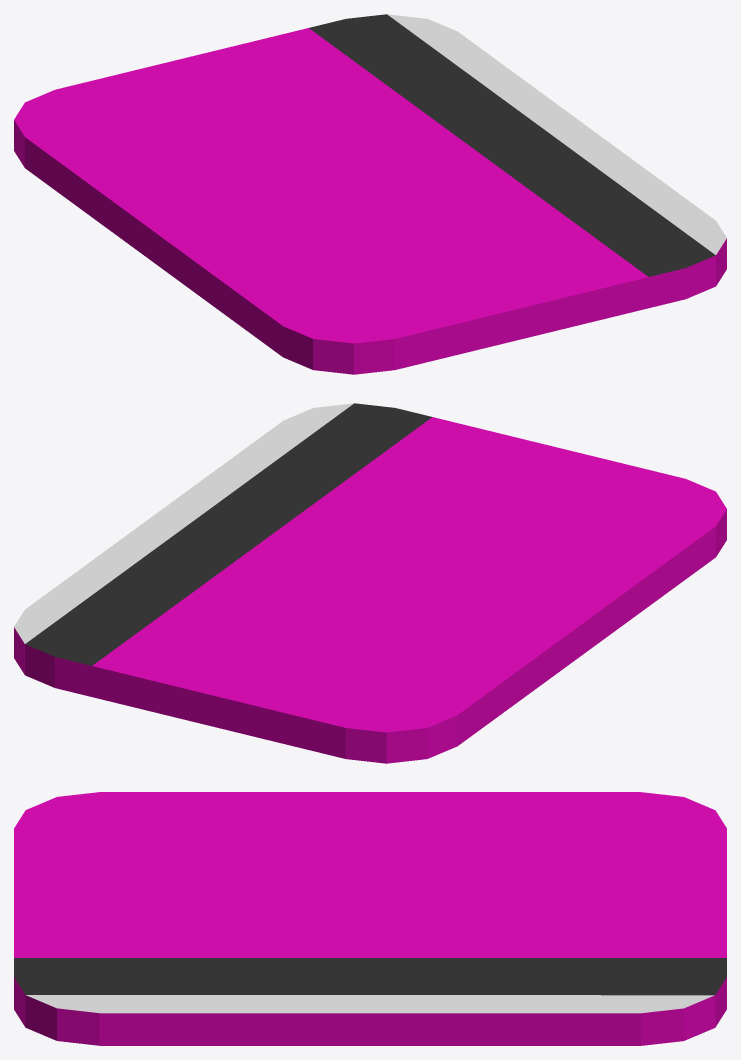
File: card.fbx
The picture shows the model from 3 angles, top to bottom: view 1: azimuth 30°, elevation 25°; view 2: azimuth 150°, elevation 25°; view 3: azimuth 270°, elevation 25°; orthographic projection. The views are drawn at different scales.
Parts seen in each view (by area): view 1: Plane.028; view 2: Plane.028; view 3: Plane.028.
Boxes of the visible parts, x1=… form: Plane.028: x1=14, y1=14, x2=726, y2=374; Plane.028: x1=14, y1=403, x2=726, y2=763; Plane.028: x1=14, y1=792, x2=726, y2=1045.
Size of the model in its own units: 9.01 by 0.6196 by 12.26.
